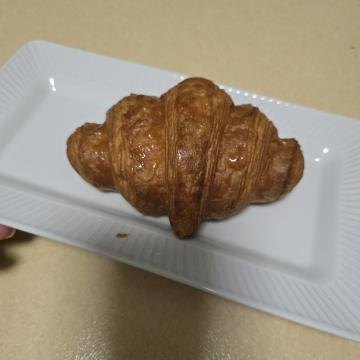croissant: (65, 50, 244, 302)
